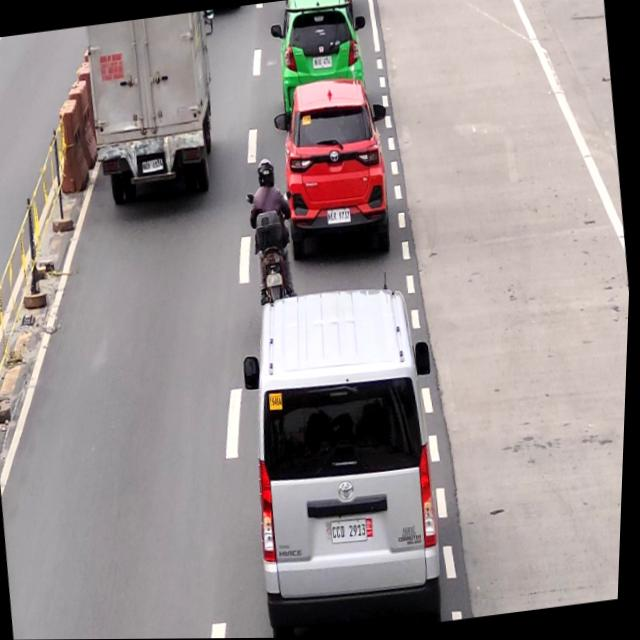Car: (250, 280, 460, 638), (274, 75, 401, 266), (273, 0, 370, 87)
License-Plate: (333, 516, 375, 549), (139, 154, 167, 175), (327, 207, 355, 226), (312, 54, 333, 72)
Motorcycle: (240, 150, 303, 306)
Truck: (78, 11, 225, 204)
